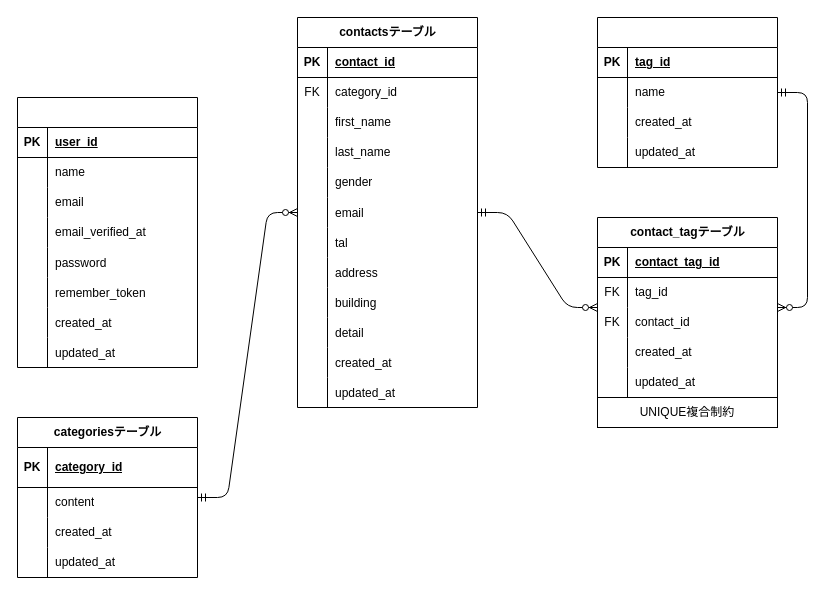
This 834x595 diagram has some shape labels left out. The shapes that lost their labels are listed below. From the top down, each one's box as (x1, y1, x2, y2) in pixels, then its label:
(596, 16, 778, 168): tagsテーブル
(16, 96, 198, 368): usersテーブル
